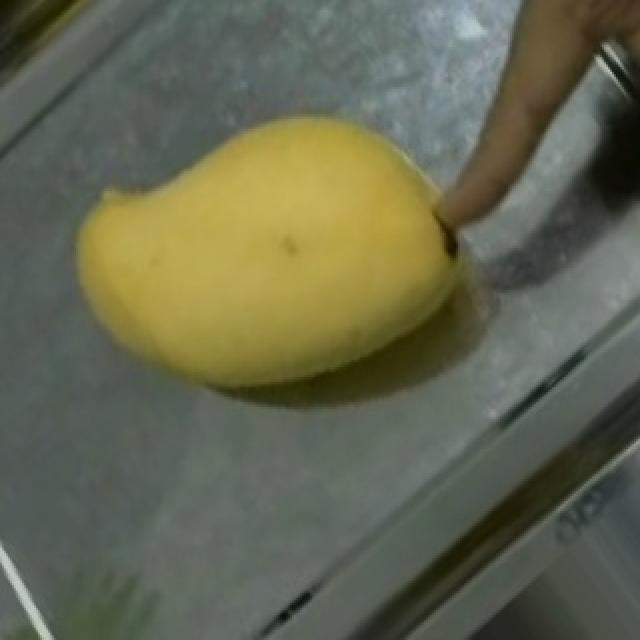fruit: (44, 42, 516, 462)
